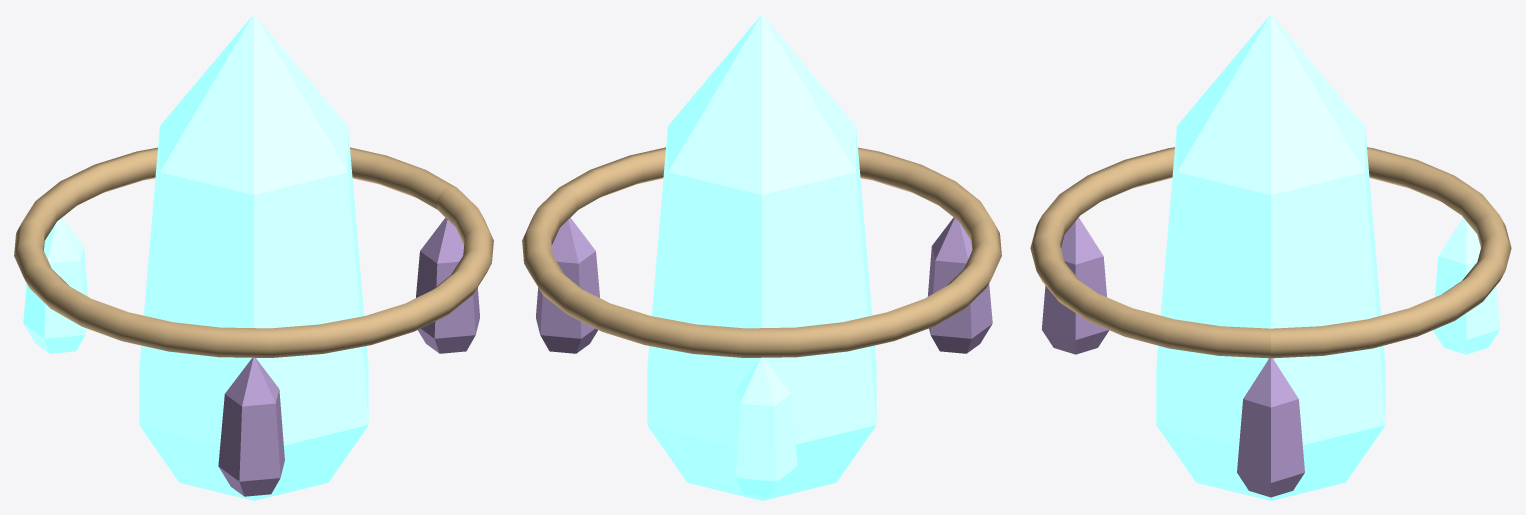
File: pick_cyan_note.glb
3 views of the same model, side by side, from view 1: azimuth 30°, elevation 25°; view 2: azimuth 150°, elevation 25°; view 3: azimuth 270°, elevation 25° (orthographic).
Parts seen in each view (by area): view 1: PICK_cyan_note_primary, PICK_cyan_note_orbit, PICK_cyan_note_satellite_2, PICK_cyan_note_satellite_1, PICK_cyan_note_satellite_0; view 2: PICK_cyan_note_primary, PICK_cyan_note_orbit, PICK_cyan_note_satellite_1, PICK_cyan_note_satellite_2, PICK_cyan_note_satellite_0; view 3: PICK_cyan_note_primary, PICK_cyan_note_orbit, PICK_cyan_note_satellite_0, PICK_cyan_note_satellite_1, PICK_cyan_note_satellite_2.
Part boxes in pixels (x1,y1,x2,y2): PICK_cyan_note_primary: [139, 14, 368, 500]; PICK_cyan_note_orbit: [14, 147, 493, 357]; PICK_cyan_note_satellite_2: [218, 357, 284, 496]; PICK_cyan_note_satellite_1: [23, 217, 88, 353]; PICK_cyan_note_satellite_0: [416, 218, 479, 353]; PICK_cyan_note_primary: [647, 14, 876, 500]; PICK_cyan_note_orbit: [522, 147, 1001, 357]; PICK_cyan_note_satellite_1: [731, 357, 797, 496]; PICK_cyan_note_satellite_2: [927, 217, 992, 353]; PICK_cyan_note_satellite_0: [536, 218, 599, 353]; PICK_cyan_note_primary: [1156, 14, 1385, 500]; PICK_cyan_note_orbit: [1030, 147, 1511, 358]; PICK_cyan_note_satellite_0: [1237, 358, 1304, 497]; PICK_cyan_note_satellite_1: [1433, 217, 1500, 354]; PICK_cyan_note_satellite_2: [1041, 217, 1108, 354].
Bounding box in the file's own units: 0.757 × 0.75 × 0.726.
